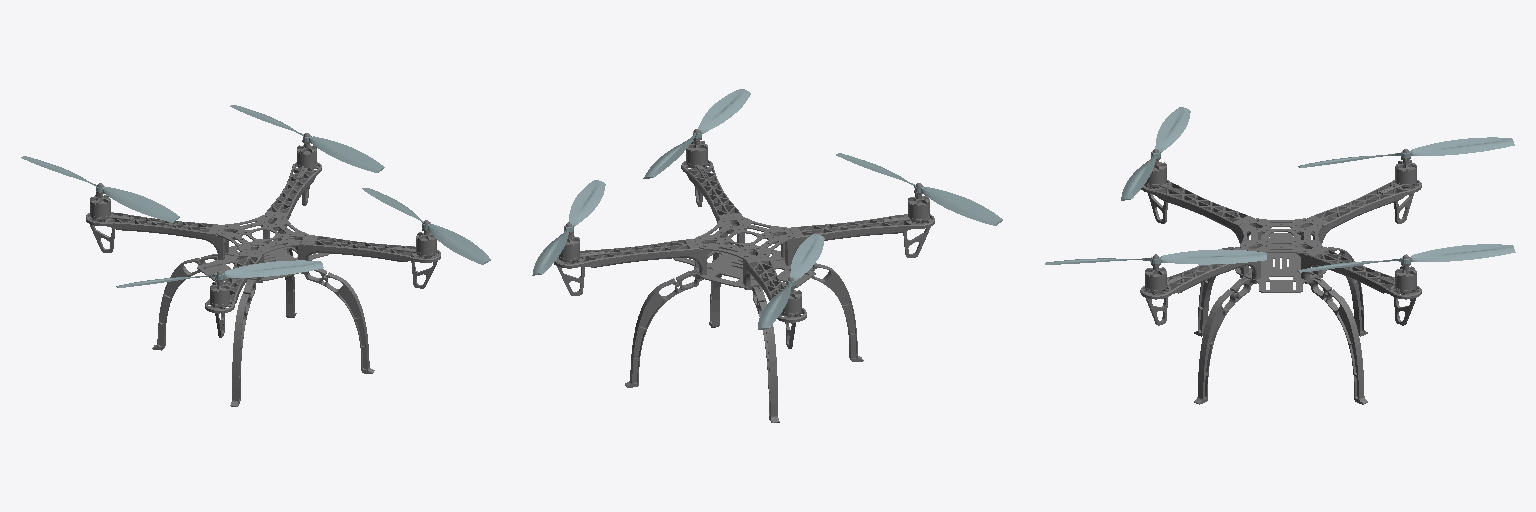
The robot description file, URDF, robot "dronesm":
<?xml version="1.0" encoding="utf-8"?>
<!-- This URDF was automatically created by SolidWorks to URDF Exporter! Originally created by [author] ([email redacted]) 
     Commit Version: 1.6.0-4-g7f85cfe  Build Version: 1.6.7995.38578
     For more information, please see http://wiki.ros.org/sw_urdf_exporter -->
<robot
  name="dronesm">
  <link
    name="base_drone">
    <inertial>
      <origin
        xyz="-1.87084654035968E-08 -3.11056949087174E-08 0.00181069275232664"
        rpy="0 0 0" />
      <mass
        value="0.772422321428976" />
      <inertia
        ixx="0.000570791861737274"
        ixy="1.96214205373143E-10"
        ixz="1.01113804456808E-11"
        iyy="0.000596837083493976"
        iyz="1.68176349113393E-11"
        izz="0.000860646965652608" />
    </inertial>
    <visual>
      <origin
        xyz="0 0 0"
        rpy="0 0 0" />
      <geometry>
        <mesh
          filename="package://dronesm/meshes/base_drone.STL" />
      </geometry>
      <material
        name="">
        <color
          rgba="0.501960784313725 0.501960784313725 0.501960784313725 1" />
      </material>
    </visual>
    <collision>
      <origin
        xyz="0 0 0"
        rpy="0 0 0" />
      <geometry>
        <mesh
          filename="package://dronesm/meshes/base_drone.STL" />
      </geometry>
    </collision>
  </link>
  <link
    name="fan_AVD">
    <inertial>
      <origin
        xyz="-1.17241966135495E-10 4.72893946223962E-10 -0.00226734727215817"
        rpy="0 0 0" />
      <mass
        value="0.0792353968916005" />
      <inertia
        ixx="0.000565443698147487"
        ixy="3.58249136766149E-05"
        ixz="2.16111464202729E-14"
        iyy="4.61426738699741E-06"
        iyz="-8.94226441792596E-14"
        izz="0.000569675887358225" />
    </inertial>
    <visual>
      <origin
        xyz="0 0 0"
        rpy="0 0 0" />
      <geometry>
        <mesh
          filename="package://dronesm/meshes/fan_AVD.STL" />
      </geometry>
      <material
        name="">
        <color
          rgba="0.592156862745098 0.666666666666667 0.682352941176471 1" />
      </material>
    </visual>
    <collision>
      <origin
        xyz="0 0 0"
        rpy="0 0 0" />
      <geometry>
        <mesh
          filename="package://dronesm/meshes/fan_AVD.STL" />
      </geometry>
    </collision>
  </link>
  <joint
    name="fan_AVDjoint"
    type="continuous">
    <origin
      xyz="0.16299 -0.16299 0.0445"
      rpy="0 0 0" />
    <parent
      link="base_drone" />
    <child
      link="fan_AVD" />
    <axis
      xyz="0 0 1" />
  </joint>
  <link
    name="fan_AVG">
    <inertial>
      <origin
        xyz="7.73890146410494E-10 3.76828811210483E-11 -0.00226734731708393"
        rpy="0 0 0" />
      <mass
        value="0.0792353990603971" />
      <inertia
        ixx="0.000538735087364471"
        ixy="0.000124696172003502"
        ixz="6.98765381782958E-14"
        iyy="3.1323033712424E-05"
        iyz="2.42697974317243E-13"
        izz="0.000569676047929746" />
    </inertial>
    <visual>
      <origin
        xyz="0 0 0"
        rpy="0 0 0" />
      <geometry>
        <mesh
          filename="package://dronesm/meshes/fan_AVG.STL" />
      </geometry>
      <material
        name="">
        <color
          rgba="0.592156862745098 0.666666666666667 0.682352941176471 1" />
      </material>
    </visual>
    <collision>
      <origin
        xyz="0 0 0"
        rpy="0 0 0" />
      <geometry>
        <mesh
          filename="package://dronesm/meshes/fan_AVG.STL" />
      </geometry>
    </collision>
  </link>
  <joint
    name="fan_AVGjoint"
    type="continuous">
    <origin
      xyz="0.16299 0.16299 0.0445"
      rpy="0 0 0" />
    <parent
      link="base_drone" />
    <child
      link="fan_AVG" />
    <axis
      xyz="0 0 1" />
  </joint>
  <link
    name="fan_AD">
    <inertial>
      <origin
        xyz="-4.84437157055595E-10 5.19363441142673E-11 -0.00226734441902539"
        rpy="0 0 0" />
      <mass
        value="0.0792351821581551" />
      <inertia
        ixx="4.74236226564284E-05"
        ixy="0.000153165074142608"
        ixz="9.14136564848287E-14"
        iyy="0.000522634513948098"
        iyz="-1.0346031503665E-14"
        izz="0.000569676063471998" />
    </inertial>
    <visual>
      <origin
        xyz="0 0 0"
        rpy="0 0 0" />
      <geometry>
        <mesh
          filename="package://dronesm/meshes/fan_AD.STL" />
      </geometry>
      <material
        name="">
        <color
          rgba="0.592156862745098 0.666666666666667 0.682352941176471 1" />
      </material>
    </visual>
    <collision>
      <origin
        xyz="0 0 0"
        rpy="0 0 0" />
      <geometry>
        <mesh
          filename="package://dronesm/meshes/fan_AD.STL" />
      </geometry>
    </collision>
  </link>
  <joint
    name="fan_ADjoint"
    type="continuous">
    <origin
      xyz="-0.16299 -0.16299 0.0445"
      rpy="0 0 0" />
    <parent
      link="base_drone" />
    <child
      link="fan_AD" />
    <axis
      xyz="0 0 1" />
  </joint>
  <link
    name="fan_AG">
    <inertial>
      <origin
        xyz="7.72497538159556E-10 5.97825573767086E-11 -0.00226734731708395"
        rpy="0 0 0" />
      <mass
        value="0.0792353990603964" />
      <inertia
        ixx="0.000531196145004461"
        ixy="0.000138987948706614"
        ixz="6.29119309366546E-14"
        iyy="3.88619760724263E-05"
        iyz="2.44595672160963E-13"
        izz="0.000569676047929738" />
    </inertial>
    <visual>
      <origin
        xyz="0 0 0"
        rpy="0 0 0" />
      <geometry>
        <mesh
          filename="package://dronesm/meshes/fan_AG.STL" />
      </geometry>
      <material
        name="">
        <color
          rgba="0.592156862745098 0.666666666666667 0.682352941176471 1" />
      </material>
    </visual>
    <collision>
      <origin
        xyz="0 0 0"
        rpy="0 0 0" />
      <geometry>
        <mesh
          filename="package://dronesm/meshes/fan_AG.STL" />
      </geometry>
    </collision>
  </link>
  <joint
    name="fan_AGjoint"
    type="continuous">
    <origin
      xyz="-0.16299 0.16299 0.0445"
      rpy="0 0 0" />
    <parent
      link="base_drone" />
    <child
      link="fan_AG" />
    <axis
      xyz="0 0 1" />
  </joint>
</robot>

--- Render facts (derived) ---
The picture shows the robot from 3 angles, left to right: view 1: azimuth 30°, elevation 25°; view 2: azimuth 150°, elevation 25°; view 3: azimuth 270°, elevation 25°; orthographic projection.
Model dronesm with 5 links and 4 joints (4 continuous), rooted at base_drone, posed every joint at zero.
Links seen in each view (by area): view 1: base_drone, fan_AD, fan_AVG, fan_AG, fan_AVD; view 2: base_drone, fan_AD, fan_AVD, fan_AVG, fan_AG; view 3: base_drone, fan_AVG, fan_AVD, fan_AG, fan_AD.
Boxes of the visible links, box(x1,y1,x2,y2) form: base_drone: box(86, 133, 440, 406); fan_AD: box(116, 260, 323, 287); fan_AVG: box(230, 105, 384, 172); fan_AG: box(21, 156, 179, 222); fan_AVD: box(362, 188, 490, 264); base_drone: box(554, 129, 934, 422); fan_AD: box(836, 153, 1002, 225); fan_AVD: box(643, 89, 750, 178); fan_AVG: box(532, 180, 605, 275); fan_AG: box(758, 234, 824, 329); base_drone: box(1140, 149, 1421, 404); fan_AVG: box(1297, 244, 1515, 272); fan_AVD: box(1045, 249, 1266, 264); fan_AG: box(1298, 137, 1514, 167); fan_AD: box(1121, 107, 1190, 200).
Bounding box of the posed robot: 0.5104 × 0.6135 × 0.239 m (x, y, z).
5 mesh visuals loaded from 5 distinct referenced files (5 binary STL).